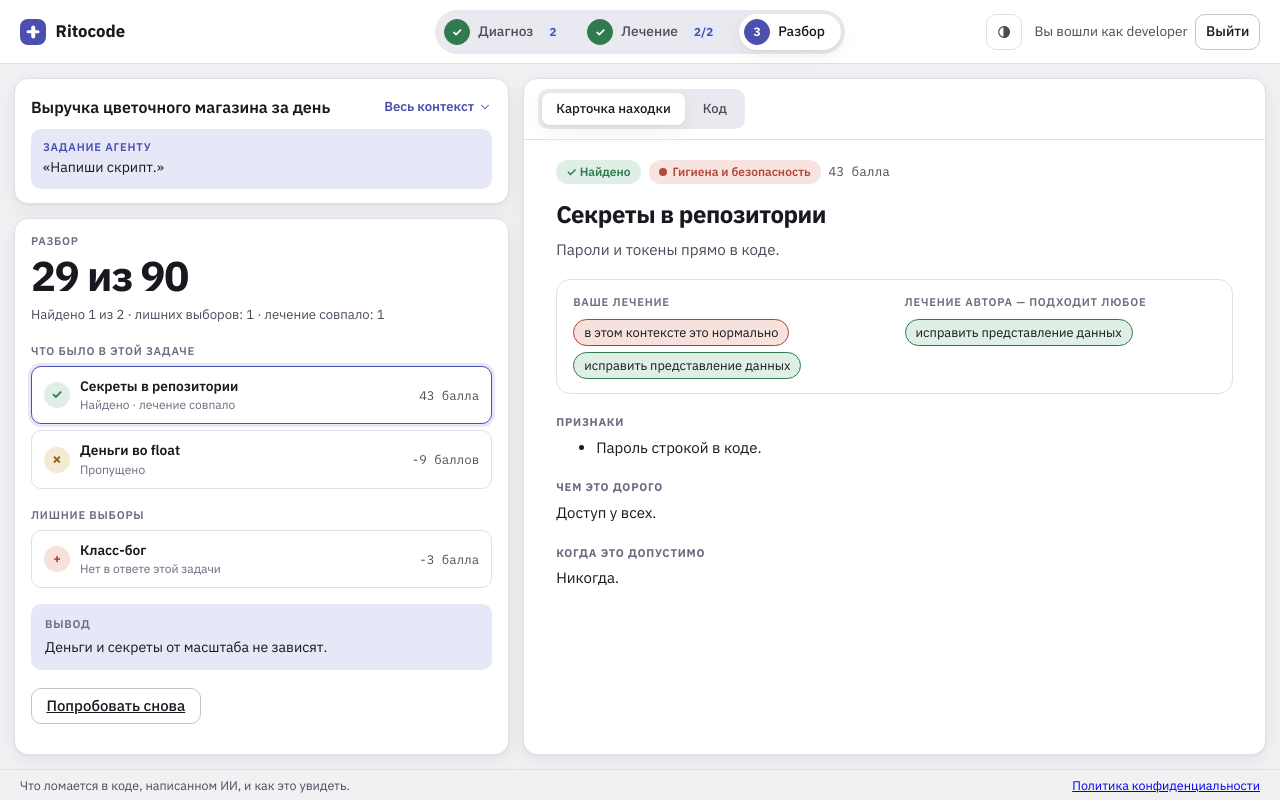
Test: the review › shows the code again on asking
This screenshot has width=1280, height=800.
Check: the heading "Разбор" is shown, box x1=31 y1=234 x2=79 y2=248
Click the button "Код" at [715, 109], box x1=689 y1=93 x2=741 y2=125
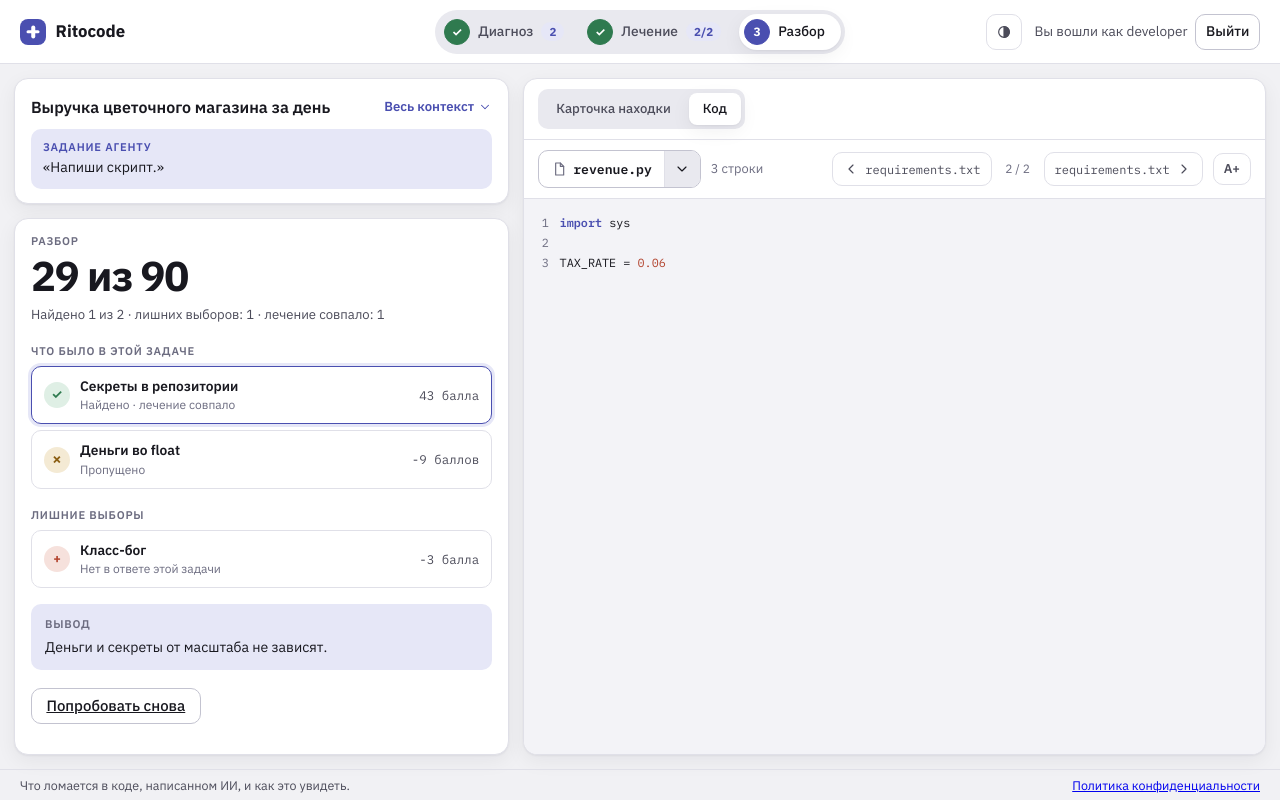
Check: the text "TAX_RATE" is shown, box x1=560 y1=255 x2=616 y2=270
